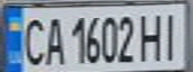0: (100, 11, 121, 64)
1: (66, 12, 87, 65)
2: (115, 11, 139, 64)
6: (84, 12, 103, 64)
A: (39, 12, 66, 66)
C: (18, 12, 48, 68)
H: (136, 9, 166, 62)
I: (157, 8, 187, 61)
